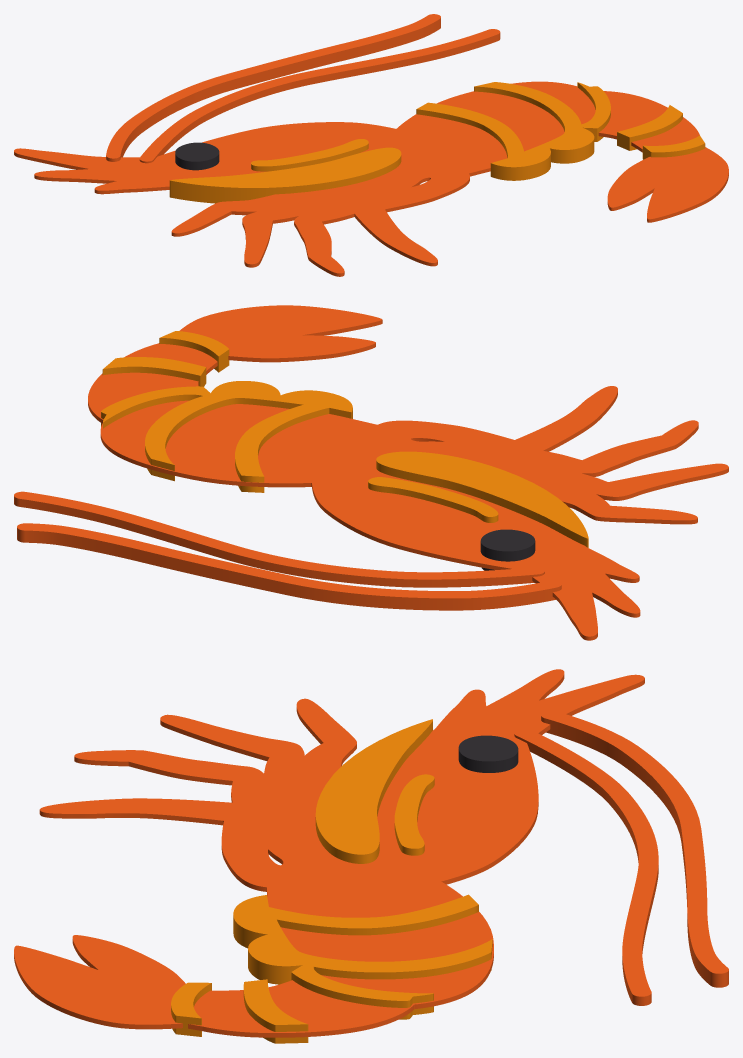
The model's file is emoji_u1f990.glb.
3 views of the same model, one above another, from view 1: azimuth 30°, elevation 25°; view 2: azimuth 150°, elevation 25°; view 3: azimuth 270°, elevation 25° (orthographic). The views are drawn at different scales.
Visible parts, largest first — view 1: emoji_u1f990; view 2: emoji_u1f990; view 3: emoji_u1f990.
Part boxes in pixels (x1,y1,x2,y2): emoji_u1f990: [14, 14, 728, 276]; emoji_u1f990: [14, 305, 728, 640]; emoji_u1f990: [14, 669, 728, 1043].
Size of the model in its own units: 0.0335 by 0.0012 by 0.0279.
